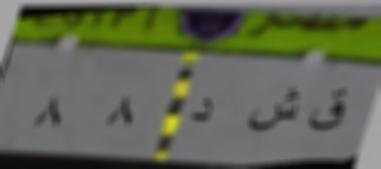8: (32, 92, 65, 136), (104, 92, 135, 134)
daal: (190, 92, 216, 129)
qaaf: (308, 82, 350, 136)
sheen: (244, 84, 304, 137)
